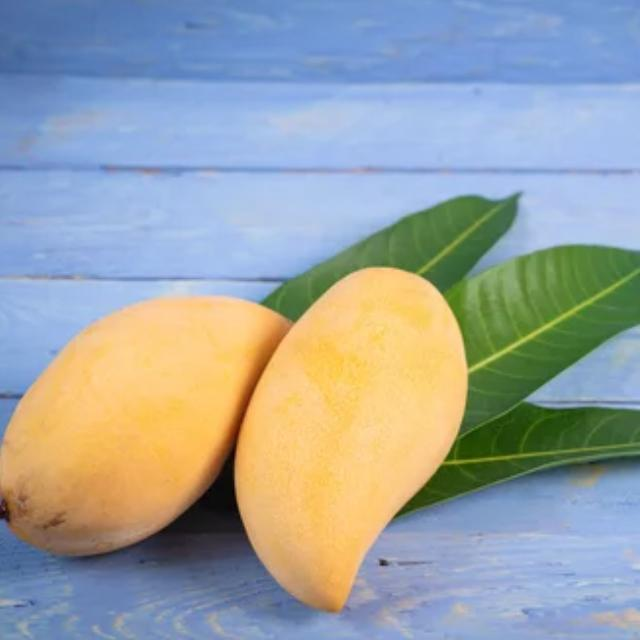mango: (239, 264, 472, 615), (0, 295, 299, 553)
